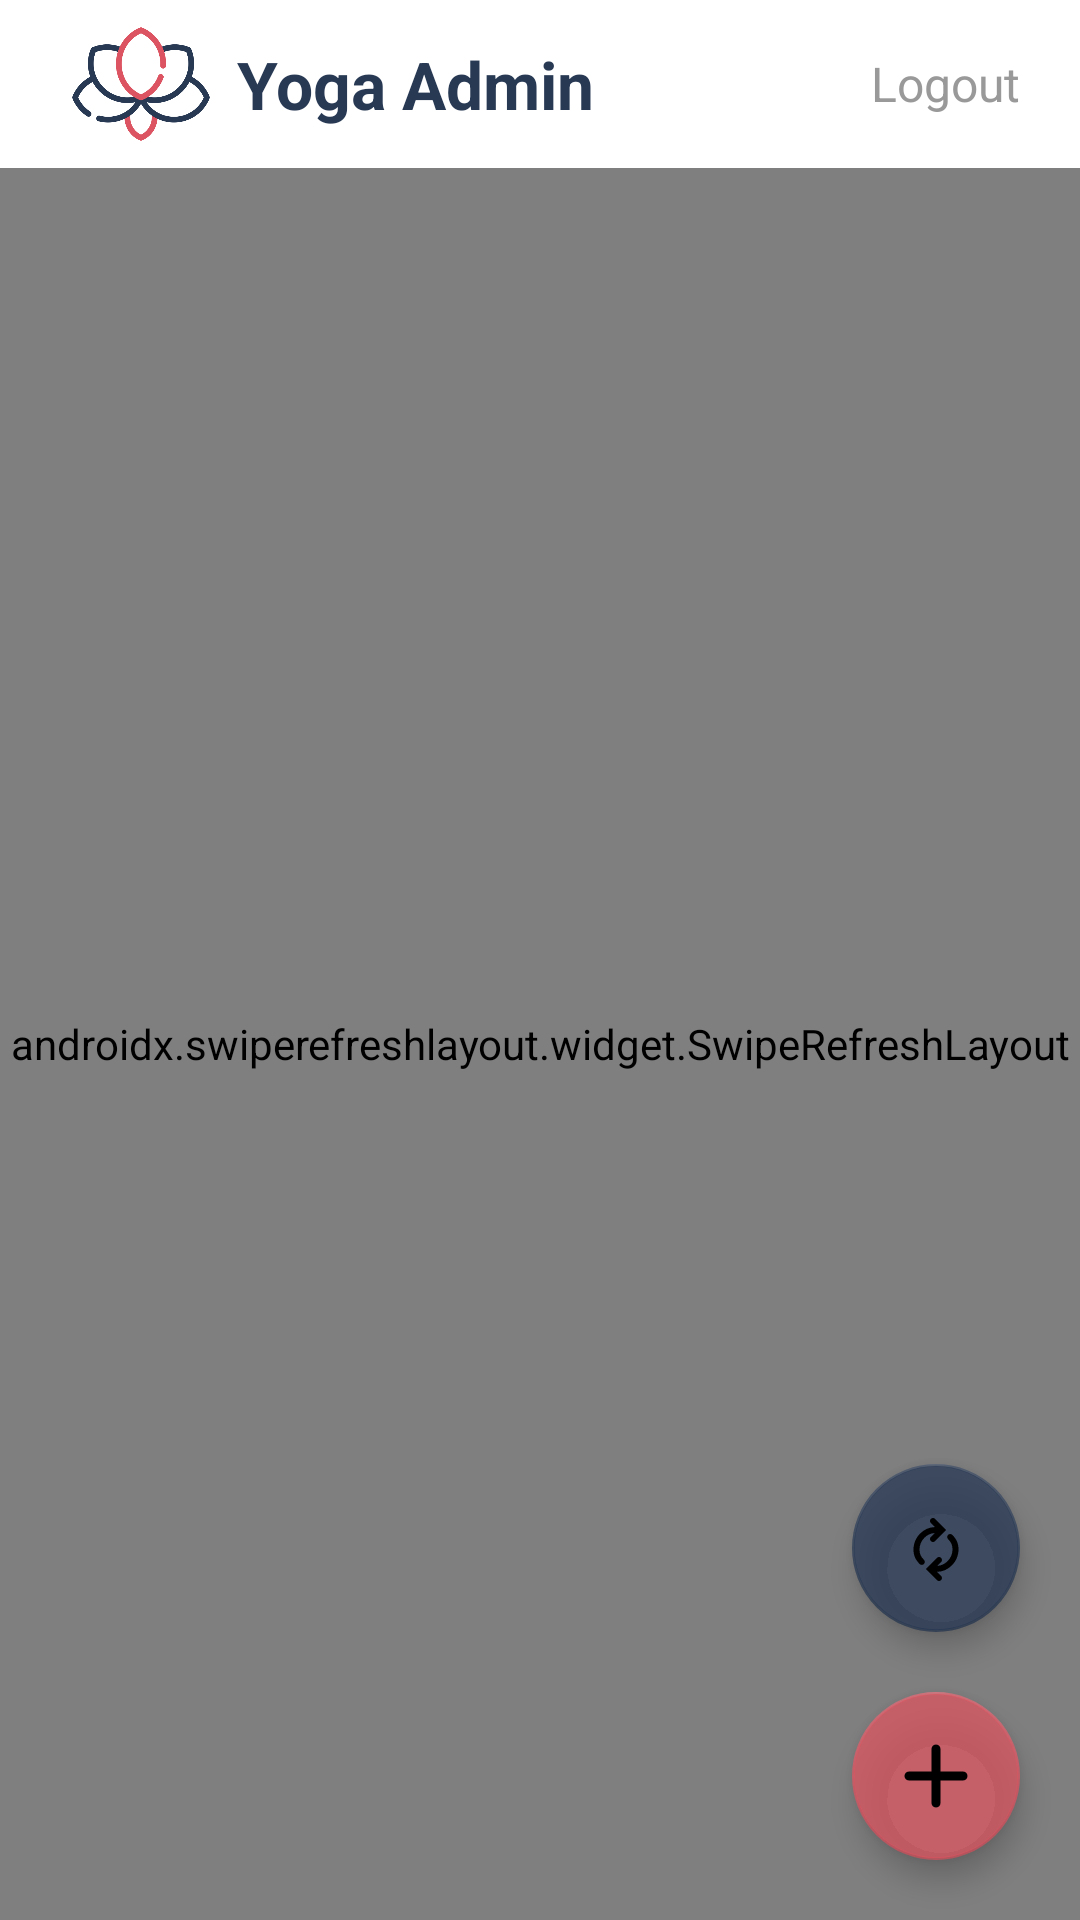

Screen size 1080 x 1920. Icon name, then its box in pixels as (x1, y1, x2, y2):
add: (852, 1692, 1020, 1860)
sync: (852, 1464, 1020, 1632)
yoga app: (72, 27, 210, 141)
